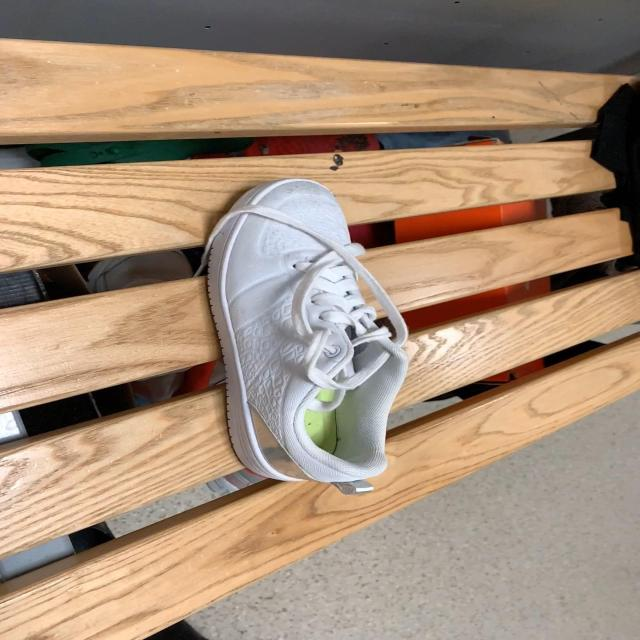shoe: (203, 179, 411, 493)
